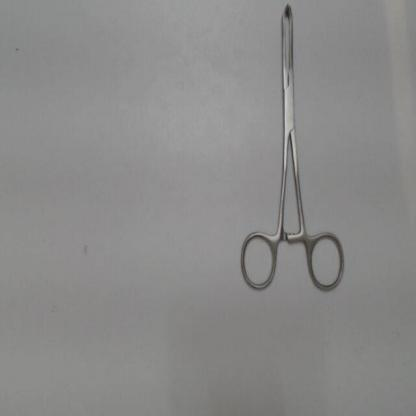Allis Tissue Forceps: (234, 2, 352, 302)
